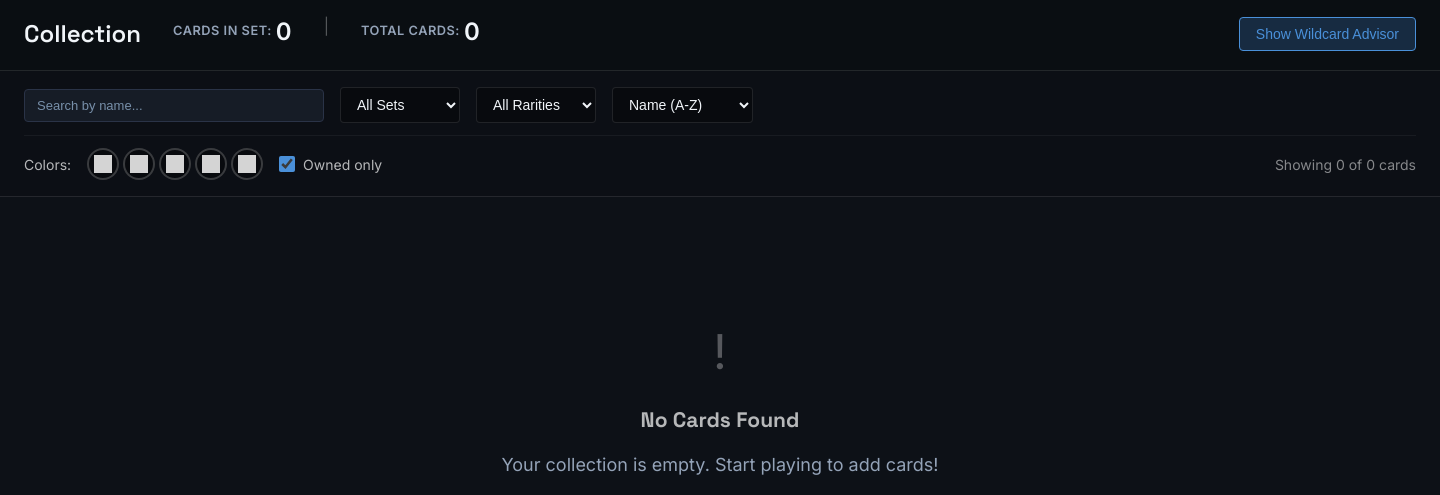
Test: Collection › Empty State Variations › should show filter adjustment suggestion when filters are active
Expected: the heading "No Cards Found" is shown, [641, 404, 799, 435]
// Toggle a color filter
What coordinates should you click on to do the following:
click the button with test id "collection-color-button-R"
I would click on:
 (211, 164)
Its box is [195, 148, 227, 180].
Wait 350 ms
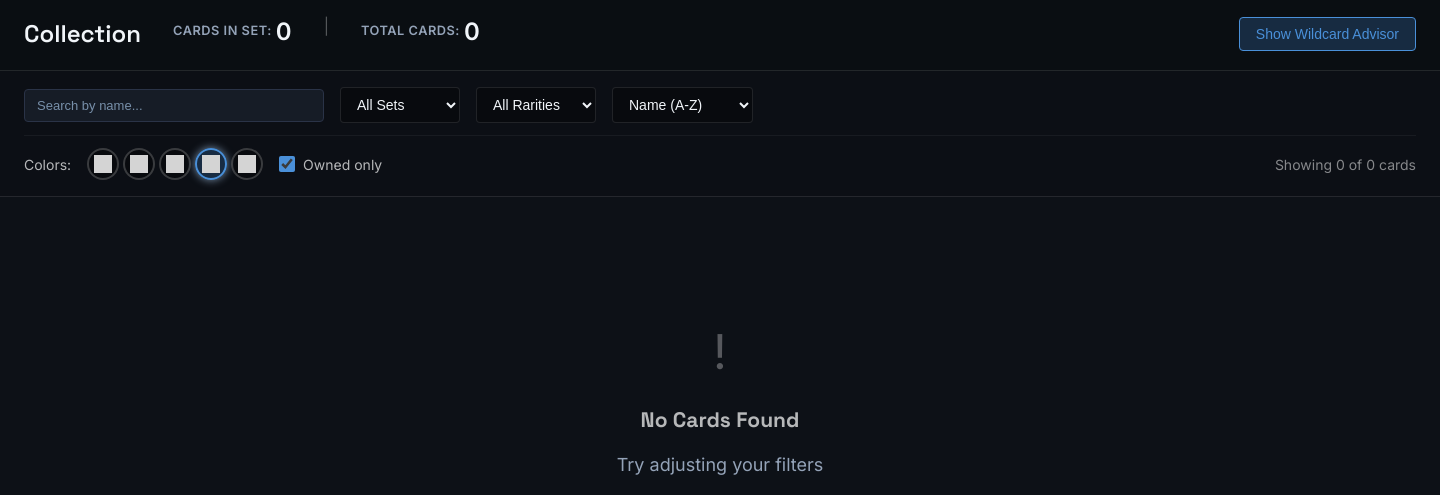
Expected: the text "Try adjusting your filters" is shown, [617, 451, 823, 478]
